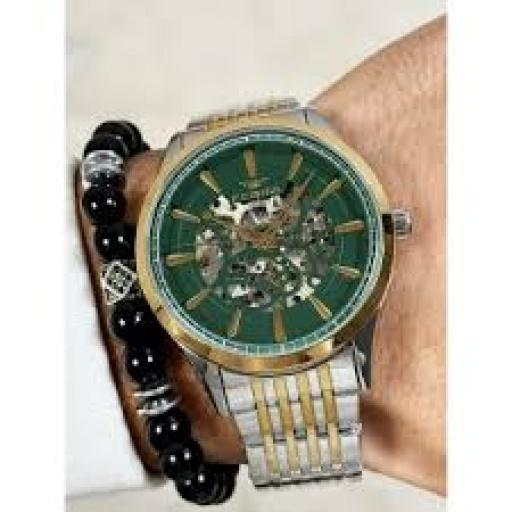KolSaati: (84, 69, 410, 483)
